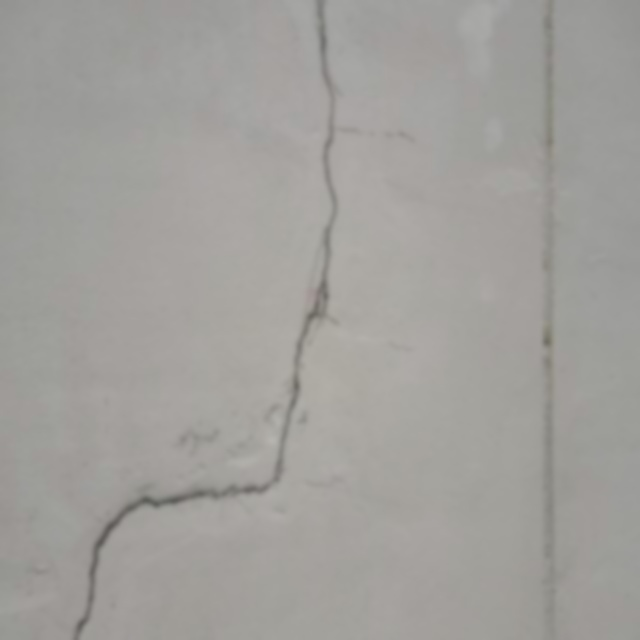SurfaceCrack: (11, 0, 393, 639)
